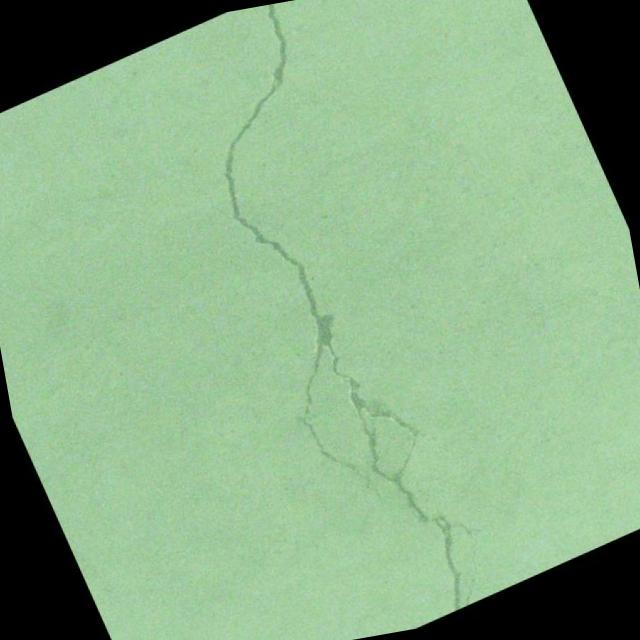crack: (101, 0, 539, 640)
